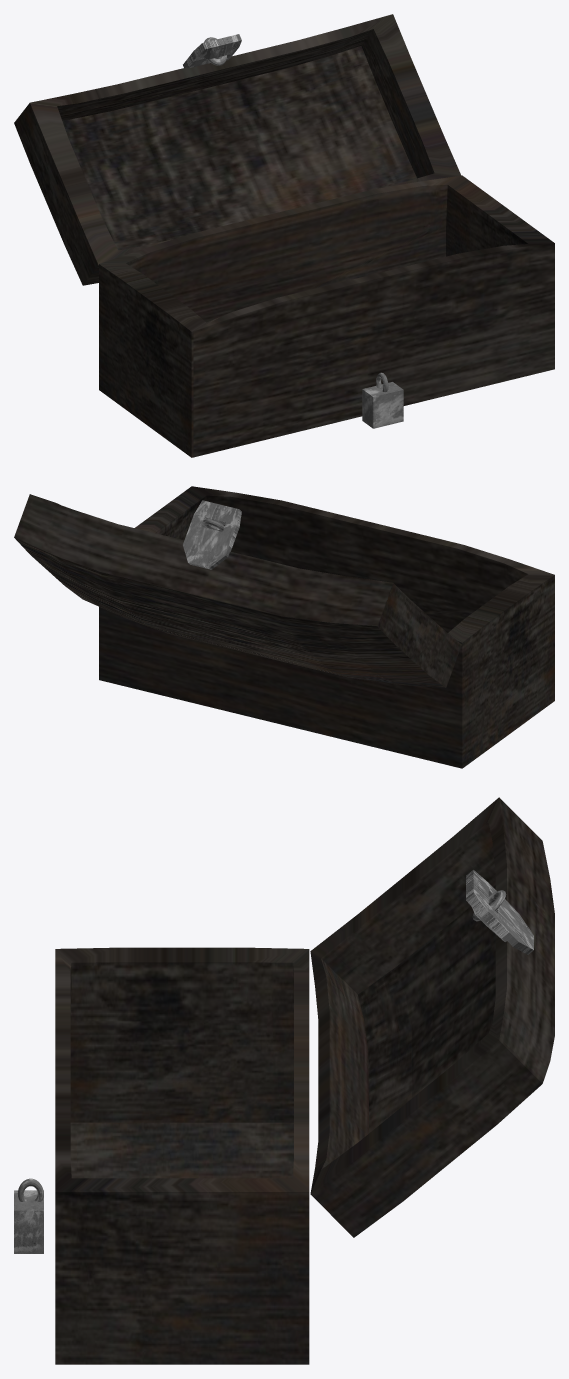
The model's file is chestn sword2.fbx.
The picture shows the model from 3 angles, top to bottom: view 1: azimuth 30°, elevation 25°; view 2: azimuth 150°, elevation 25°; view 3: azimuth 270°, elevation 25°; orthographic projection. The views are drawn at different scales.
Parts seen in each view (by area): view 1: Cube, Cube.001, Cube.002, Plane.001; view 2: Cube, Cube.001, Plane.001; view 3: Cube, Cube.001, Plane.001, Cube.002.
Part boxes in pixels (x1,y1,x2,y2): Cube: [99, 175, 554, 457]; Cube.001: [14, 14, 461, 285]; Cube.002: [362, 382, 403, 428]; Plane.001: [183, 34, 241, 68]; Cube: [99, 486, 554, 768]; Cube.001: [14, 494, 461, 687]; Plane.001: [183, 500, 241, 569]; Cube: [55, 947, 309, 1364]; Cube.001: [310, 797, 554, 1237]; Plane.001: [466, 870, 533, 954]; Cube.002: [14, 1190, 43, 1253].
Size of the model in its own units: 453 by 314 by 426.
